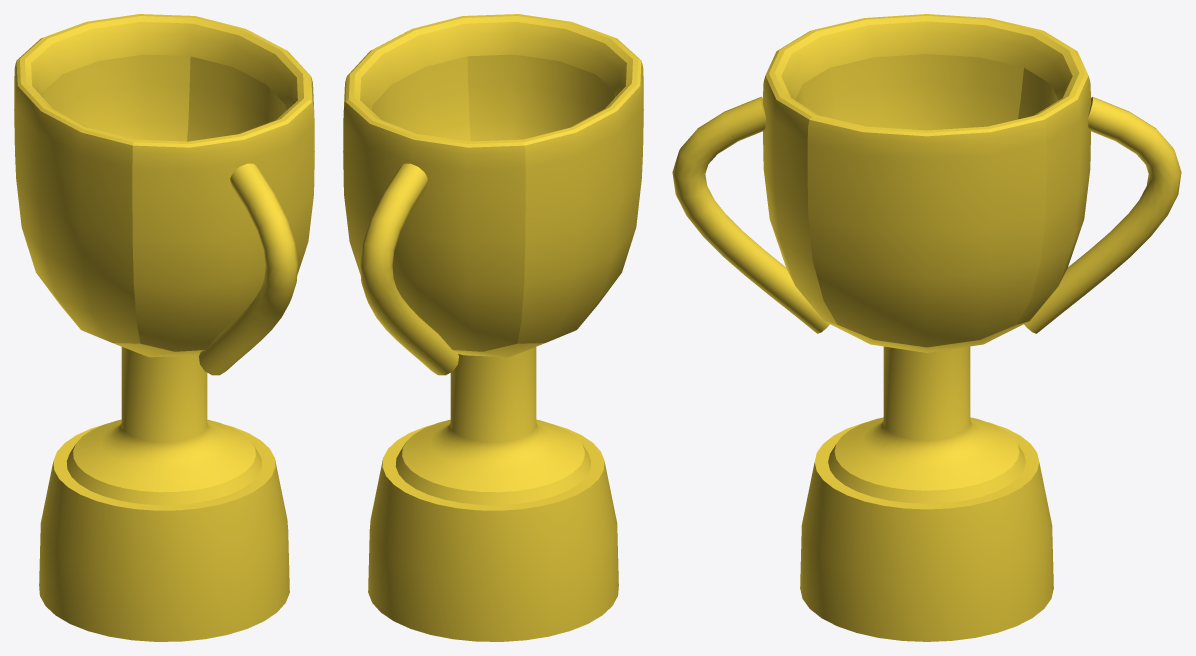
Rendered from GoldCup.fbx.
3 renders of one model, left to right at view 1: azimuth 30°, elevation 25°; view 2: azimuth 150°, elevation 25°; view 3: azimuth 270°, elevation 25°, orthographic.
Parts seen in each view (by area): view 1: Cube; view 2: Cube; view 3: Cube.
Boxes of the visible parts, x1=… form: Cube: x1=14, y1=14, x2=314, y2=641; Cube: x1=343, y1=14, x2=643, y2=641; Cube: x1=672, y1=14, x2=1181, y2=641.
Bounding box in the file's own units: 181 × 351 × 315.
